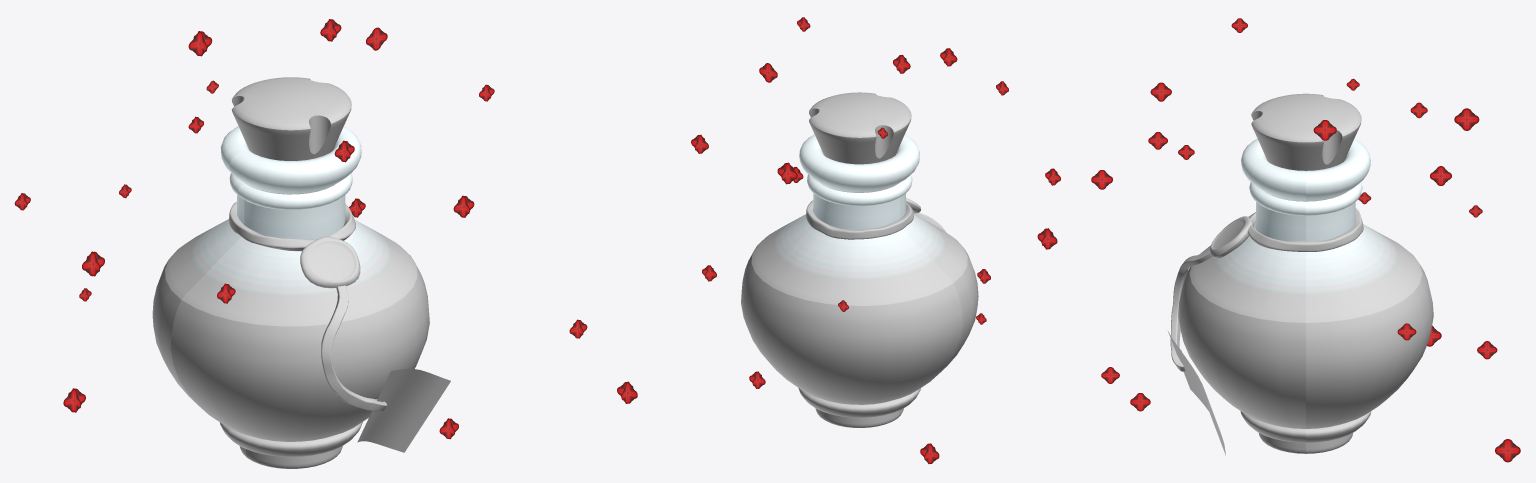
The model's file is Sketchfab_2022_11_26_11_42_33.fbx.
The picture shows the model from 3 angles, left to right: view 1: azimuth 30°, elevation 25°; view 2: azimuth 150°, elevation 25°; view 3: azimuth 270°, elevation 25°; orthographic projection. The views are drawn at different scales.
Parts seen in each view (by area): view 1: Glass_low, Top_low, Note_low, Bottom_low, Seal_low, Strip_01_low, Strip_02_low; view 2: Glass_low, Top_low, Bottom_low, Strip_02_low; view 3: Glass_low, Top_low, Bottom_low, Strip_02_low, Strip_01_low, Seal_low, Note_low.
Part boxes in pixels (x1=…): Glass_low: x1=152, y1=126, x2=429, y2=441; Top_low: x1=231, y1=77, x2=351, y2=160; Note_low: x1=357, y1=369, x2=450, y2=452; Bottom_low: x1=219, y1=422, x2=362, y2=468; Seal_low: x1=300, y1=236, x2=360, y2=288; Strip_01_low: x1=321, y1=285, x2=387, y2=411; Strip_02_low: x1=229, y1=202, x2=355, y2=251; Glass_low: x1=741, y1=134, x2=978, y2=404; Top_low: x1=809, y1=92, x2=911, y2=164; Bottom_low: x1=798, y1=388, x2=920, y2=427; Strip_02_low: x1=806, y1=200, x2=913, y2=239; Glass_low: x1=1178, y1=138, x2=1433, y2=428; Top_low: x1=1251, y1=93, x2=1361, y2=170; Bottom_low: x1=1240, y1=411, x2=1371, y2=453; Strip_02_low: x1=1247, y1=208, x2=1363, y2=251; Strip_01_low: x1=1170, y1=249, x2=1211, y2=371; Seal_low: x1=1210, y1=216, x2=1253, y2=258; Note_low: x1=1167, y1=330, x2=1225, y2=455.
Bounding box in the file's own units: 178 × 162 × 176.
